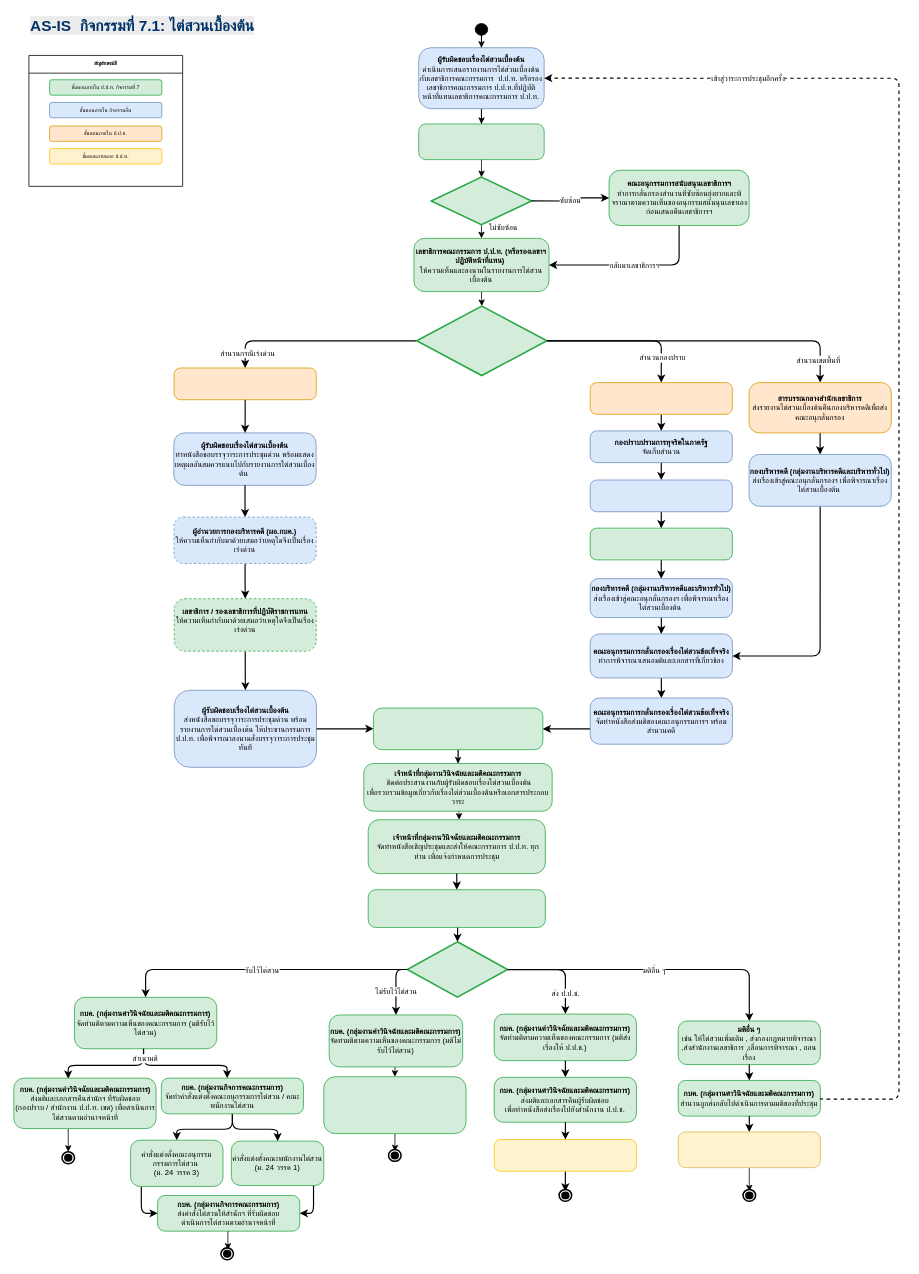
This 919x1274 diagram has some shape labels left out. Here are the shapes that lost their labels. From the top down, the centre of each, then its label:
the point at 481,141: เลขาธิการคณะกรรมการ ป.ป.ท. พิจารณาความซับซ้อนยุ่งยากของสำนวน
the point at 481,200: สำนวนมีประเด็นซับซ้อนยุ่งยากหรือไม่?
the point at 481,340: จำแนกสำนวน 3 ประเภท: เร่งด่วน / กองปราบ / เขตพื้นที่
the point at 244,383: สารบรรณกลางสำนักเลขาธิการ ส่งรายงานพร้อมระบุข้อสั่งการ
the point at 660,398: สารบรรณกลางสำนักเลขาธิการ ส่งรายงานไต่สวนเบื้องต้นคืนกองปราบ
the point at 660,495: กองปราบปรามการทุจริตในภาครัฐ จัดทำบันทึกเสนอนำเรียนต่อประธานกรรมการ ป.ป.ท.
the point at 660,543: ประธานกรรมการ ป.ป.ท. ลงนามใน บันทึกที่เสนอมา
the point at 458,728: ประธานกรรมการ ป.ป.ท. ลงนามบรรจุวาระการประชุมคณะกรรมการ ป.ป.ท.
the point at 456,908: คณะกรรมการ ป.ป.ท. ประชุมพิจารณารายงานไต่สวนเบื้องต้นตามระเบียบวาระ
the point at 457,969: ที่ประชุมคณะกรรมการ ป.ป.ท. มีมติอย่างไร?
the point at 394,1105: กบค. (กลุ่มงานคำวินิจฉัยและมติคณะกรรมการ) ส่งมติและเอกสารคืนสำนักฯ ที่รับผิดชอบ
the point at 564,1155: สำนักงาน ป.ป.ช. รับเรื่องดำเนินการตามอำนาจหน้าที่ที่กฎหมายกำหนด
the point at 748,1149: ต้องรายงานความคืบหน้ากลับมายังคณะกรรมการ ป.ป.ท. อีกครั้ง
